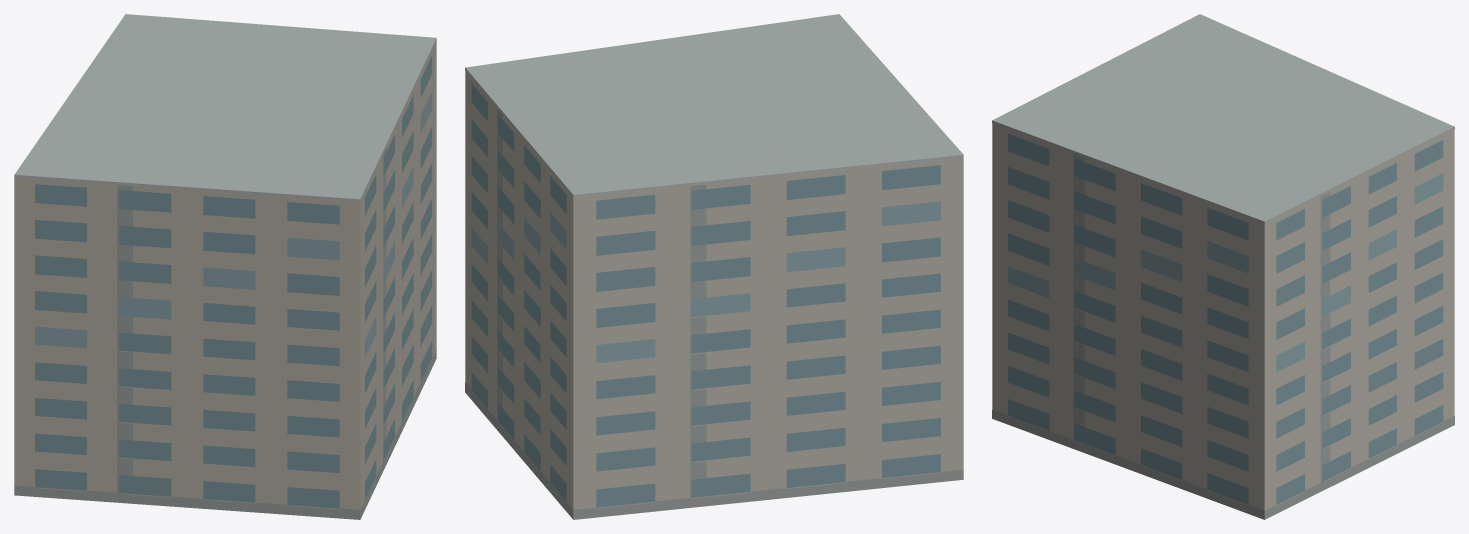
File: residential-593fbd46-ba14-44d4-bba9-6cfff5e601bf.glb
3 renders of one model, left to right at view 1: azimuth 30°, elevation 25°; view 2: azimuth 150°, elevation 25°; view 3: azimuth 270°, elevation 25°, orthographic. The views are drawn at different scales.
Visible parts, largest first — view 1: residential-593fbd46-ba14-44d4-bba9-6cfff5e601bf.tmp; view 2: residential-593fbd46-ba14-44d4-bba9-6cfff5e601bf.tmp; view 3: residential-593fbd46-ba14-44d4-bba9-6cfff5e601bf.tmp.
Part boxes in pixels (x1=…): residential-593fbd46-ba14-44d4-bba9-6cfff5e601bf.tmp: x1=14, y1=14, x2=436, y2=519; residential-593fbd46-ba14-44d4-bba9-6cfff5e601bf.tmp: x1=465, y1=14, x2=963, y2=519; residential-593fbd46-ba14-44d4-bba9-6cfff5e601bf.tmp: x1=992, y1=14, x2=1454, y2=519.
Bounding box in the file's own units: 38.8 × 26 × 36.54.
